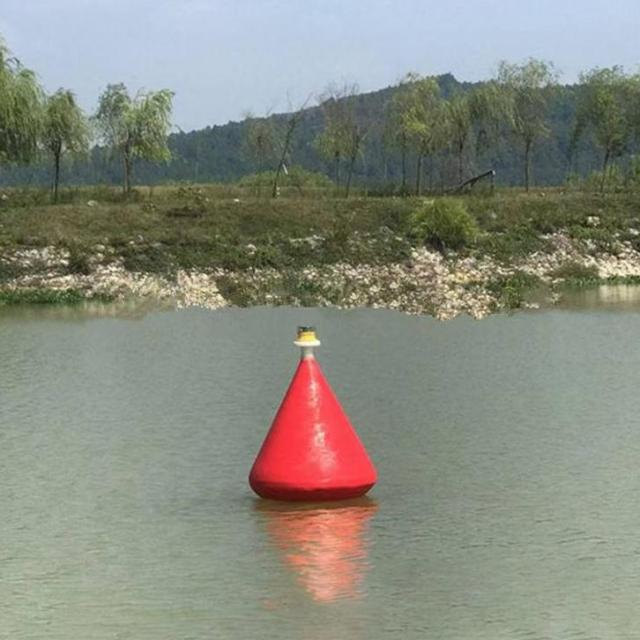buoy: (251, 316, 380, 502)
